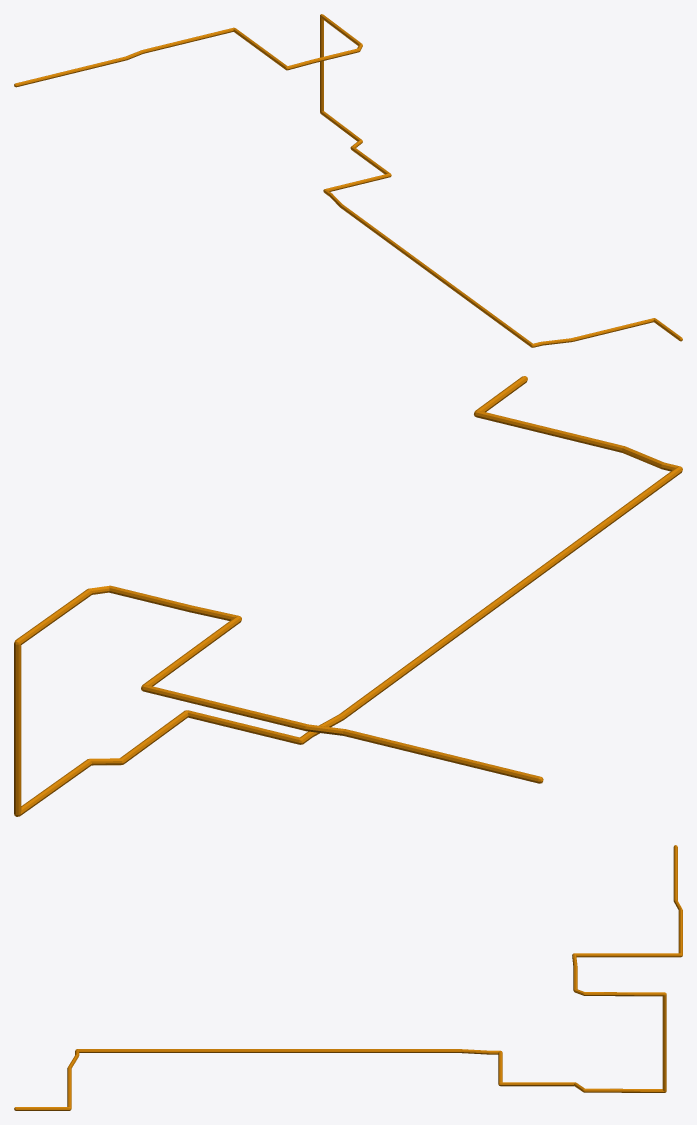
3 views of the same model, one above another, from view 1: azimuth 30°, elevation 25°; view 2: azimuth 150°, elevation 25°; view 3: azimuth 270°, elevation 25° (orthographic). The views are drawn at different scales.
Bounding box in the file's own units: 1854 × 520 × 3137.
